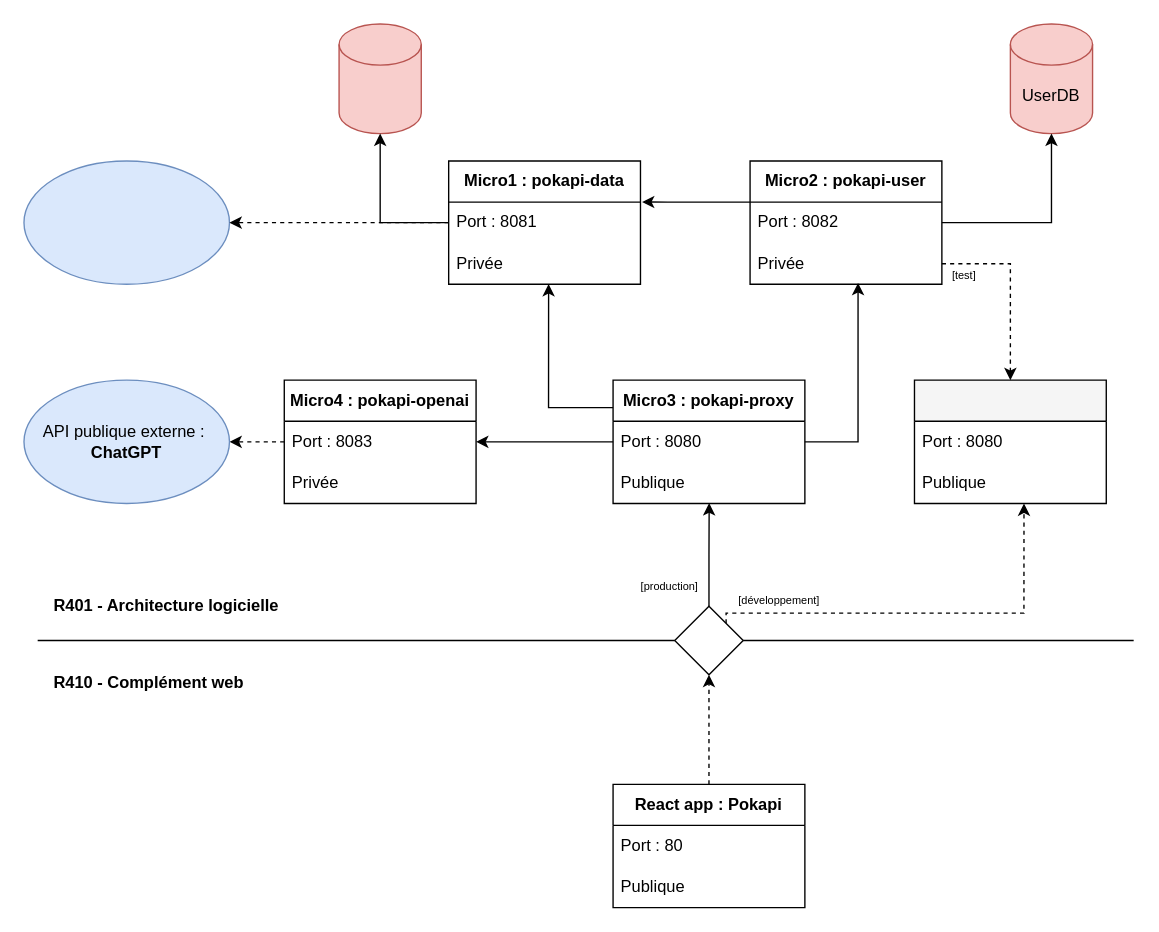
Some shapes in this 1159 by 932 pixel diagram are drawn without their labels. Each missing label, with the box of its shape:
API publique externe : dev.pokemontcg.io: (23, 160, 229, 284)
CacheDB: (338, 23, 421, 134)
Stub : pokapi-stub: (913, 379, 1106, 503)
